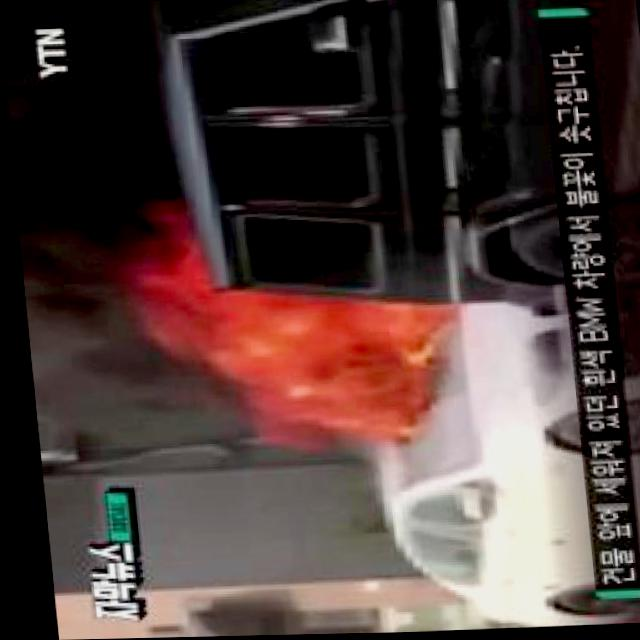helmet: (137, 185, 465, 461)
no_helmet: (6, 87, 153, 463)
